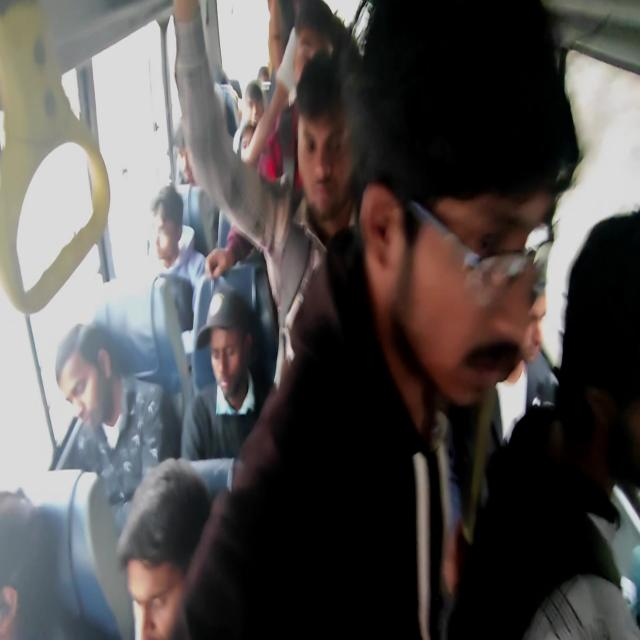person: (404, 175, 553, 412), (115, 458, 216, 636), (76, 466, 137, 640), (294, 53, 356, 222), (1, 491, 59, 637), (143, 166, 199, 311), (215, 108, 258, 255), (54, 321, 110, 427), (195, 317, 262, 405), (292, 1, 338, 76), (611, 388, 640, 484), (243, 80, 265, 128), (211, 64, 232, 90), (258, 65, 270, 84)
